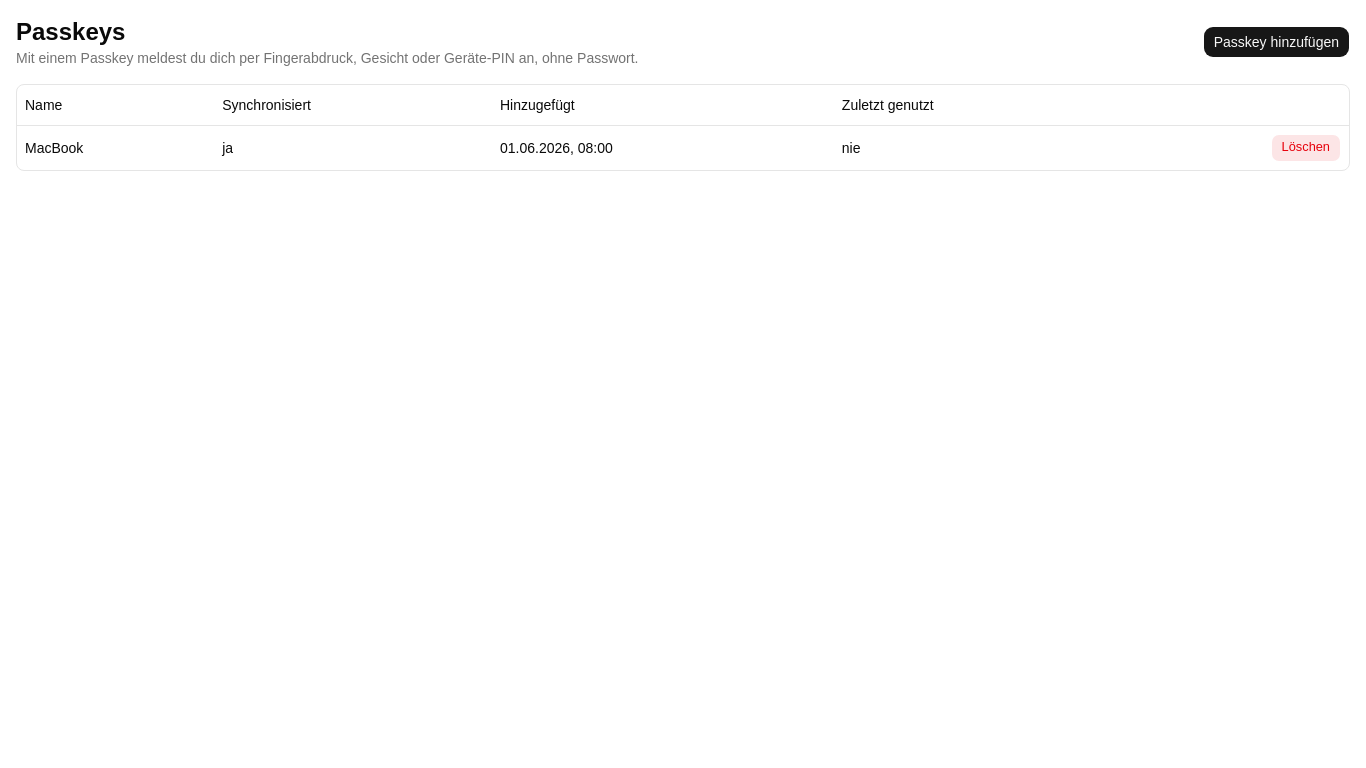
Scenario: PasskeysPage › meldet, wenn das Gerät schon einen Passkey hat, und speichert nichts
Expected: the text "MacBook" is shown, [17,125,214,170]
Click the button "Passkey hinzufügen".
click(1276, 42)  # box [1203,26,1350,58]
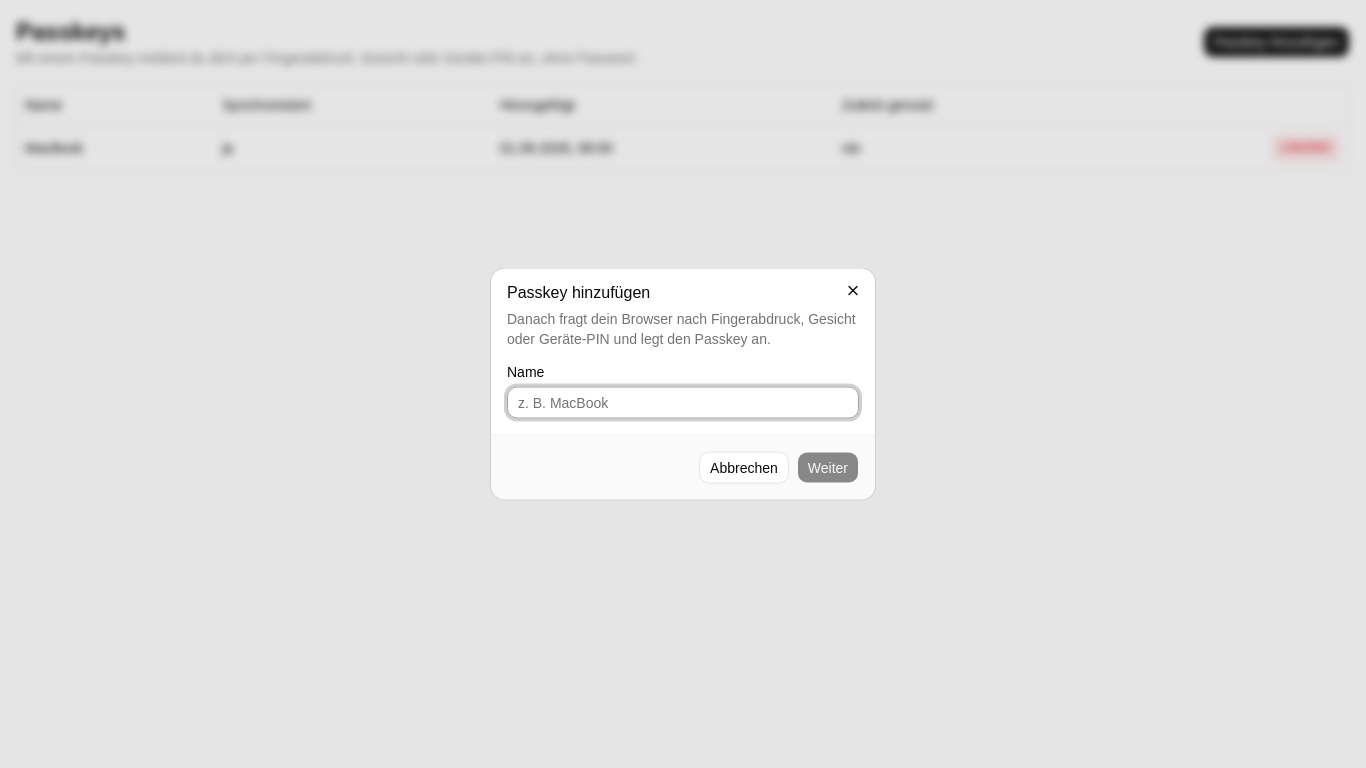
Type "iPhone" into the field labelled "Name".
click(683, 402); type("iPhone")  # box [507,386,859,418]
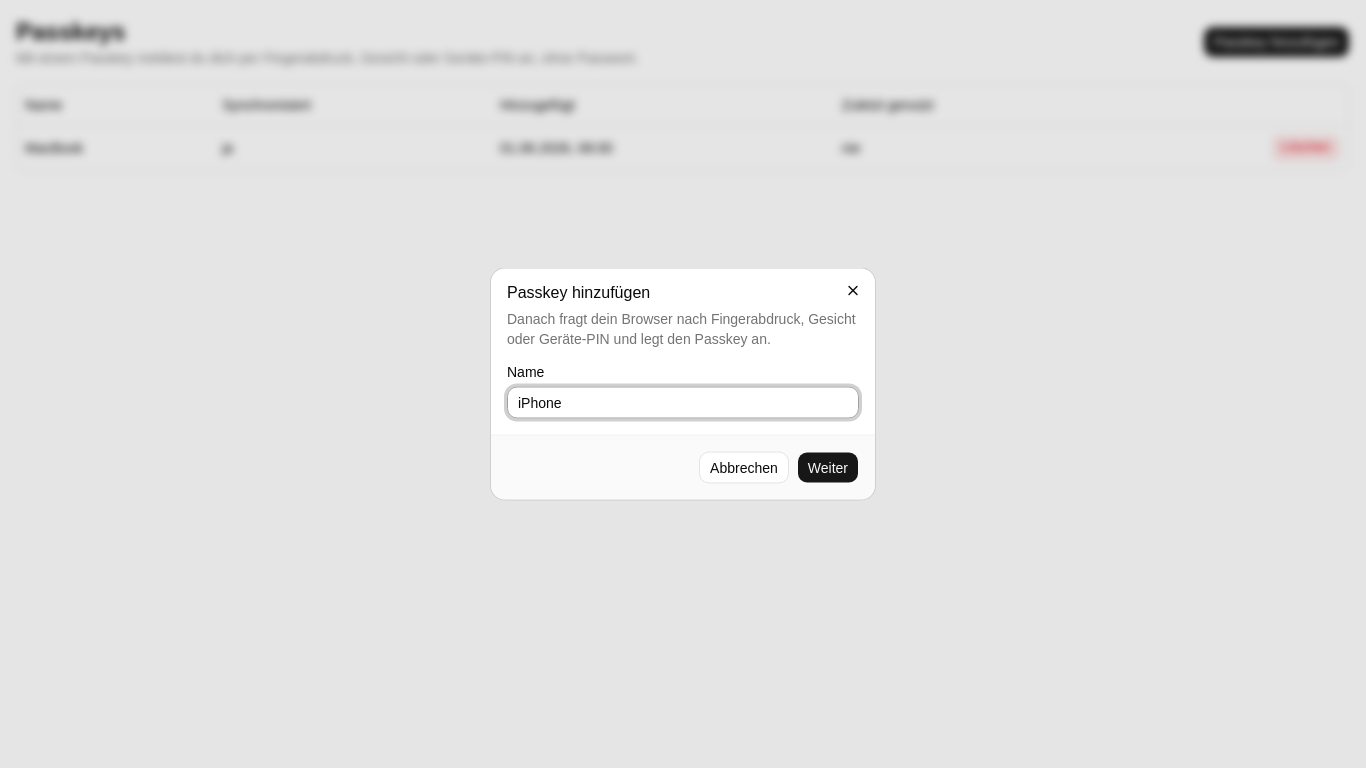
Click the button "Weiter".
click(828, 468)  # box [797,452,859,484]
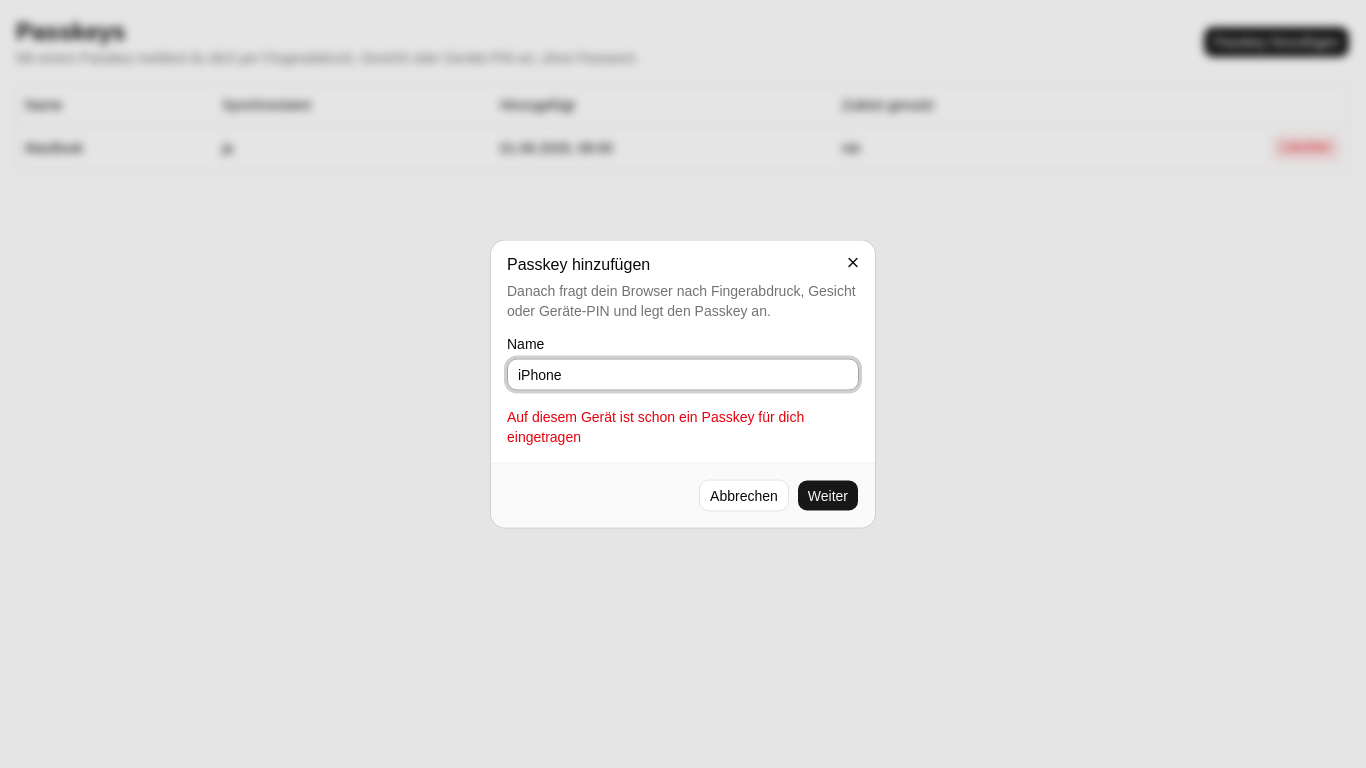
Expected: the message reads "Auf diesem Gerät ist schon ein Passkey für dich eingetragen", [507,408,804,444]
